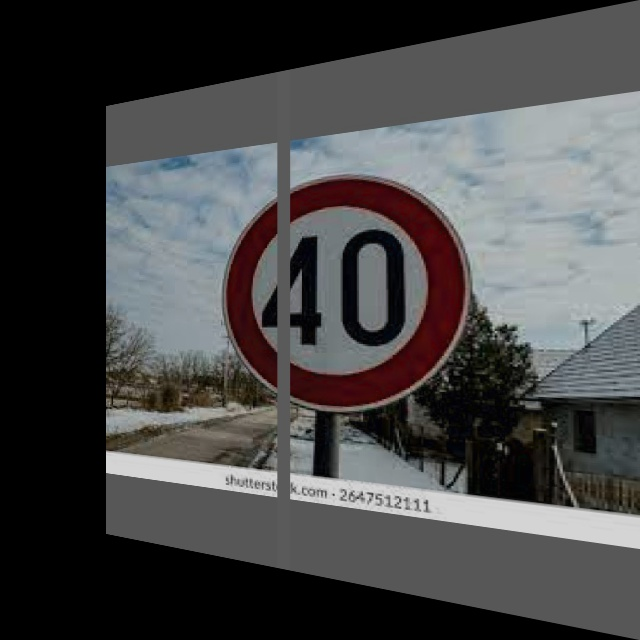Speed_Limit_40: (231, 164, 468, 416)
